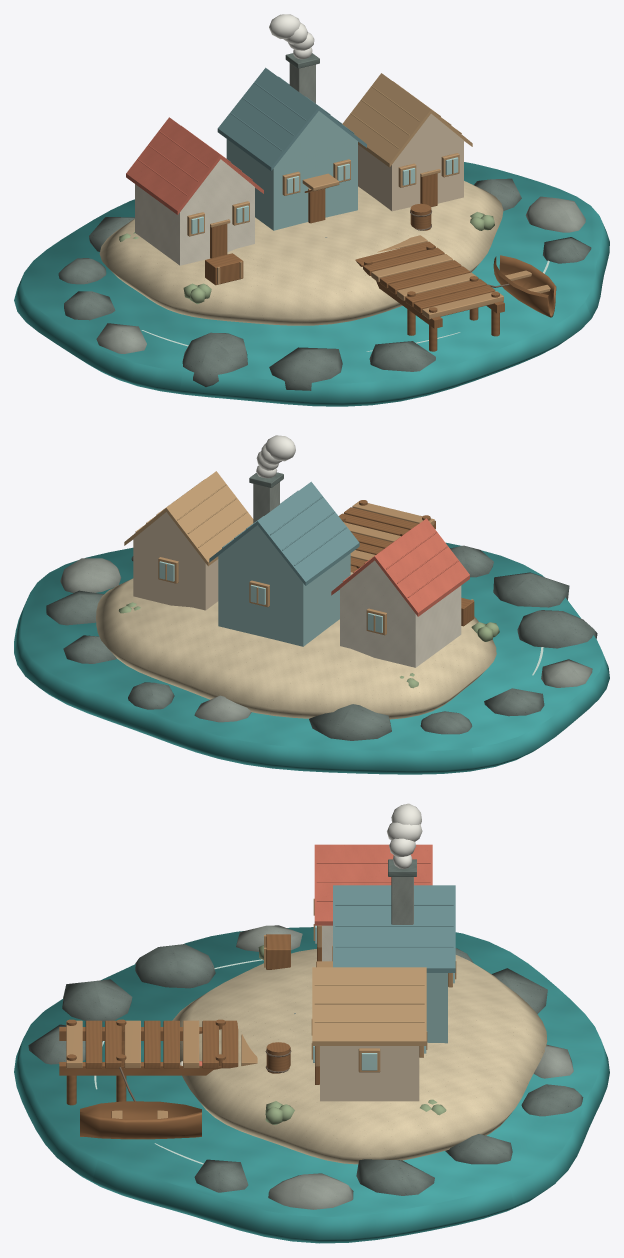
Rendered from fishing-village-v3.fbx.
3 renders of one model, top to bottom at view 1: azimuth 30°, elevation 25°; view 2: azimuth 150°, elevation 25°; view 3: azimuth 270°, elevation 25°, orthographic. The views are drawn at different scales.
Visible parts, largest first — view 1: Village | collectible export; view 2: Village | collectible export; view 3: Village | collectible export.
Boxes of the visible parts, left/top/right/bottom form: Village | collectible export: left=14, top=14, right=609, bottom=406; Village | collectible export: left=14, top=435, right=609, bottom=774; Village | collectible export: left=14, top=803, right=609, bottom=1243.
Size of the model in its own units: 171 by 78.25 by 144.
Materials: 17 (7 with a texture image).
